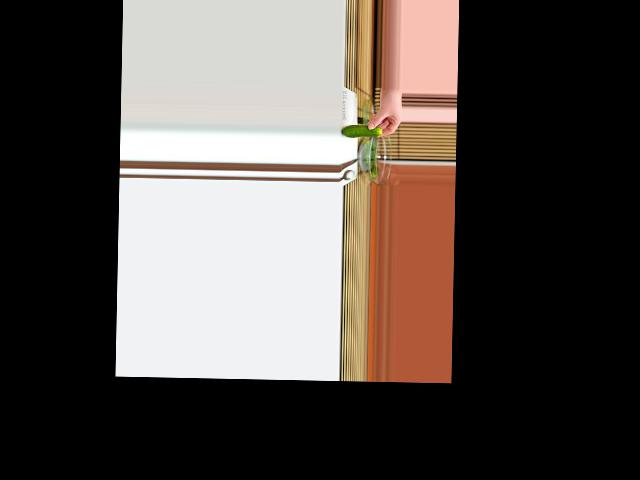cucumber: (341, 124, 382, 138)
